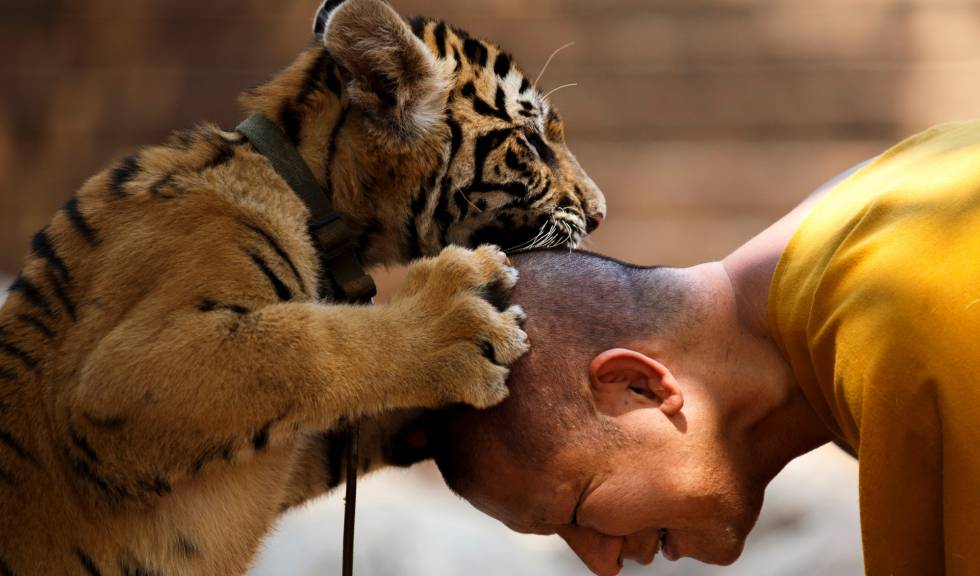Tigrew: (65, 1, 610, 537)
